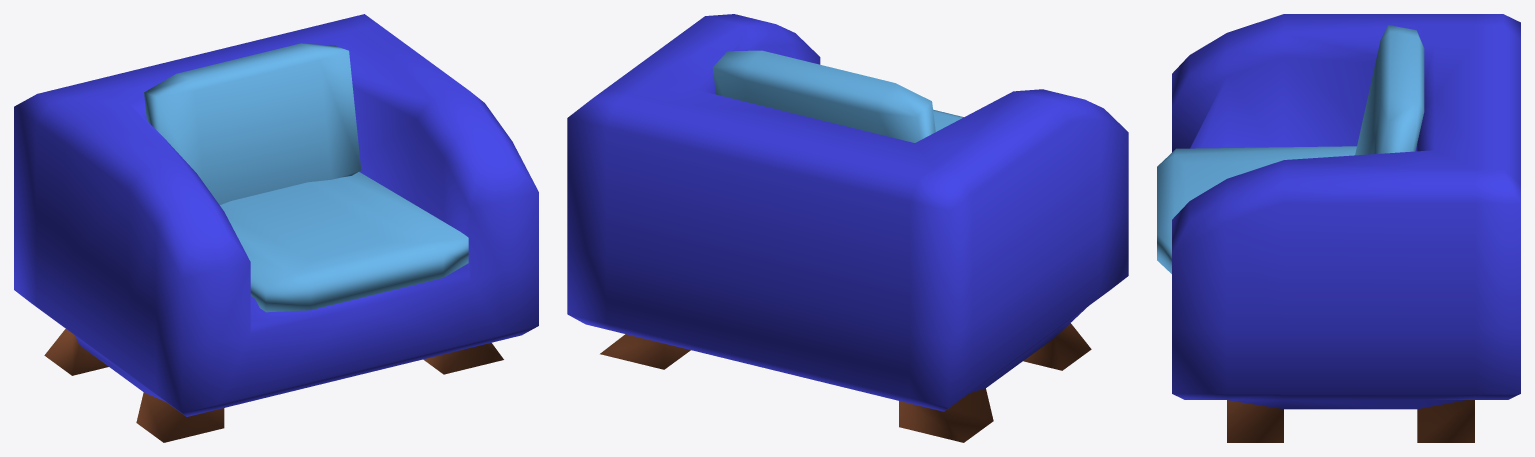
Rendered from armchair.fbx.
3 views of the same model, side by side, from view 1: azimuth 30°, elevation 25°; view 2: azimuth 150°, elevation 25°; view 3: azimuth 270°, elevation 25° (orthographic). The views are drawn at different scales.
Parts seen in each view (by area): view 1: Cube, Cube.001; view 2: Cube, Cube.001; view 3: Cube, Cube.001.
Part boxes in pixels (x1,y1,x2,y2): Cube: (14, 14, 538, 442); Cube.001: (144, 43, 468, 312); Cube: (567, 14, 1128, 442); Cube.001: (712, 50, 963, 142); Cube: (1172, 14, 1520, 442); Cube.001: (1157, 25, 1424, 273).
Bounding box in the file's own units: 1115 × 839 × 949.
